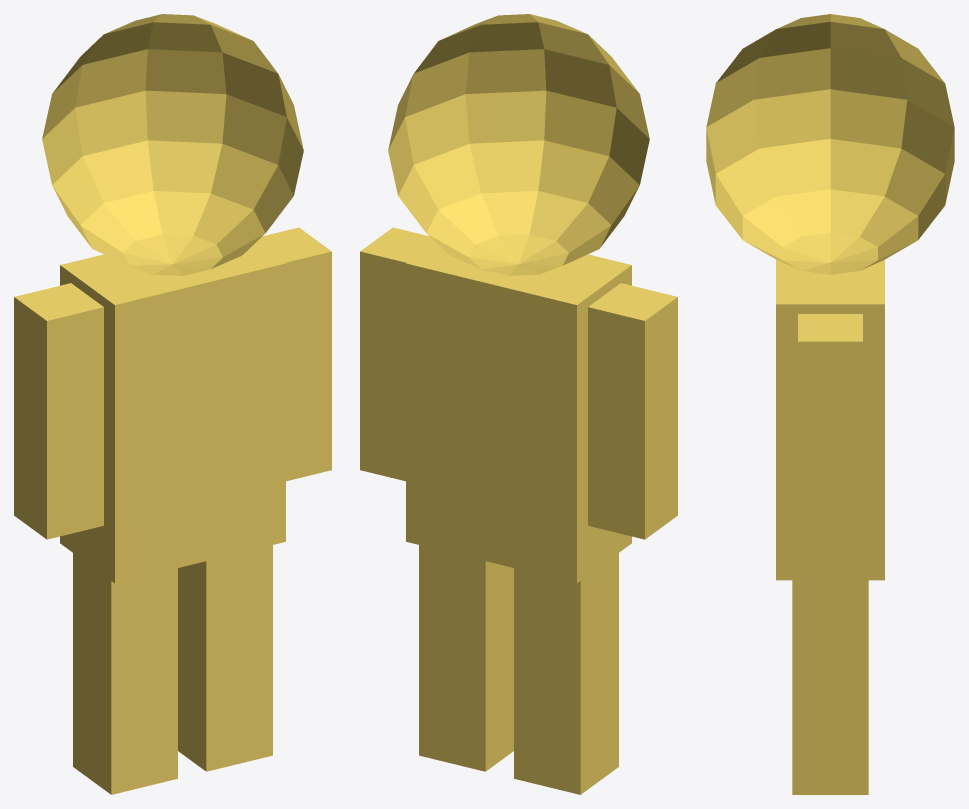
File: player-yellow.glb
The picture shows the model from 3 angles, left to right: view 1: azimuth 30°, elevation 25°; view 2: azimuth 150°, elevation 25°; view 3: azimuth 270°, elevation 25°; orthographic projection.
Visible parts, largest first — view 1: player-yellow; view 2: player-yellow; view 3: player-yellow.
Boxes of the visible parts, x1=… form: player-yellow: x1=14, y1=14, x2=331, y2=794; player-yellow: x1=360, y1=14, x2=677, y2=794; player-yellow: x1=706, y1=14, x2=954, y2=794.
Bounding box in the file's own units: 0.3 × 0.74 × 0.2283.
